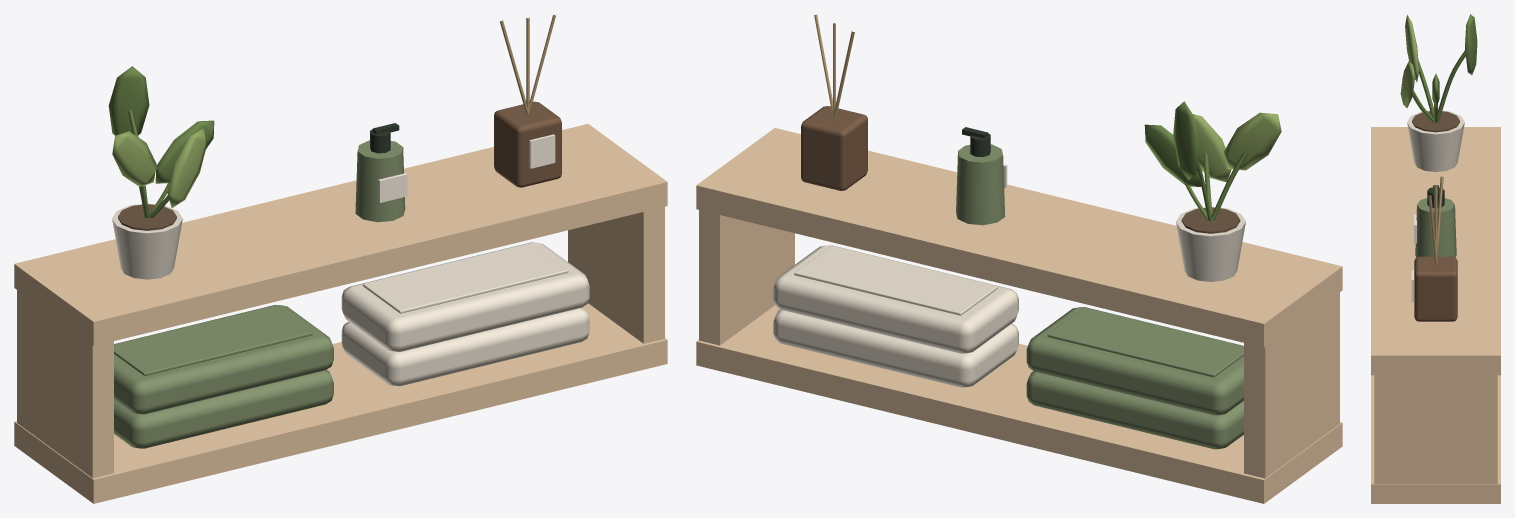
File: bathroom_ref_towel_shelf.glb
3 views of the same model, side by side, from view 1: azimuth 30°, elevation 25°; view 2: azimuth 150°, elevation 25°; view 3: azimuth 270°, elevation 25° (orthographic). The views are drawn at different scales.
Size of the model in its own units: 1.75 by 1.08 by 0.42.
